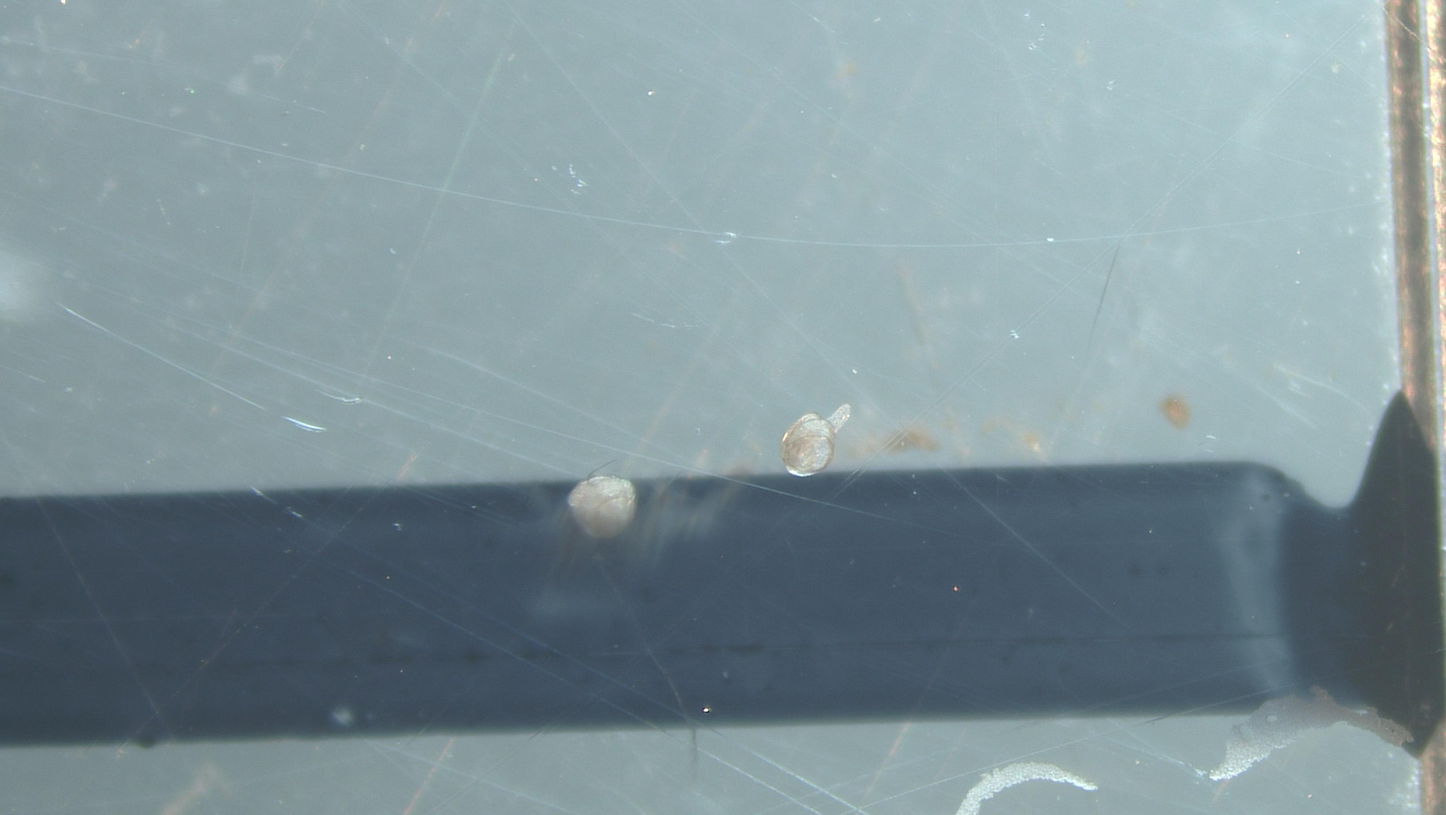dead: (781, 404, 851, 477), (568, 476, 637, 538)
